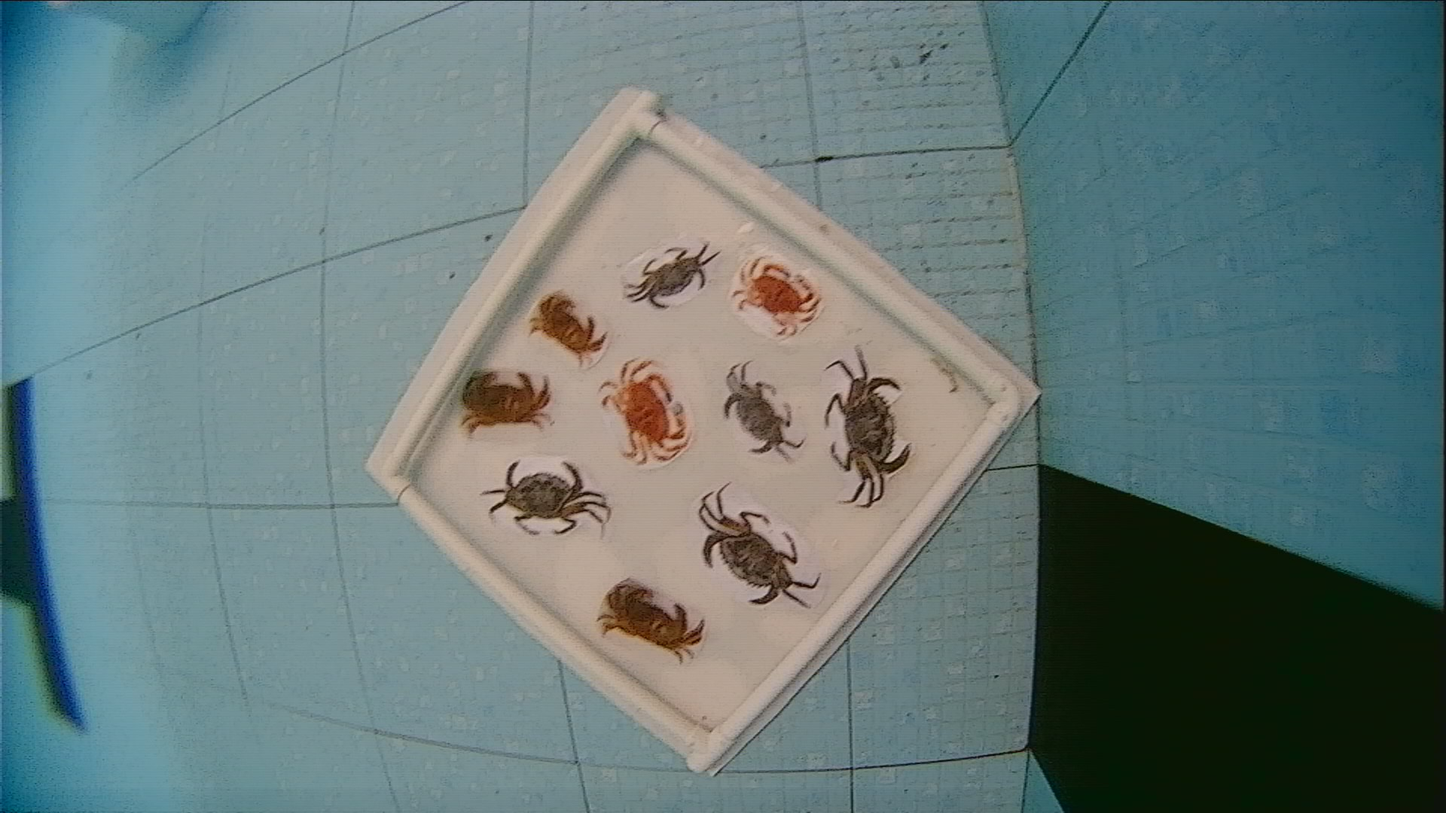GreenCrab: (698, 484, 818, 607), (824, 346, 911, 507), (480, 461, 610, 534), (724, 362, 803, 453), (628, 243, 719, 308)
